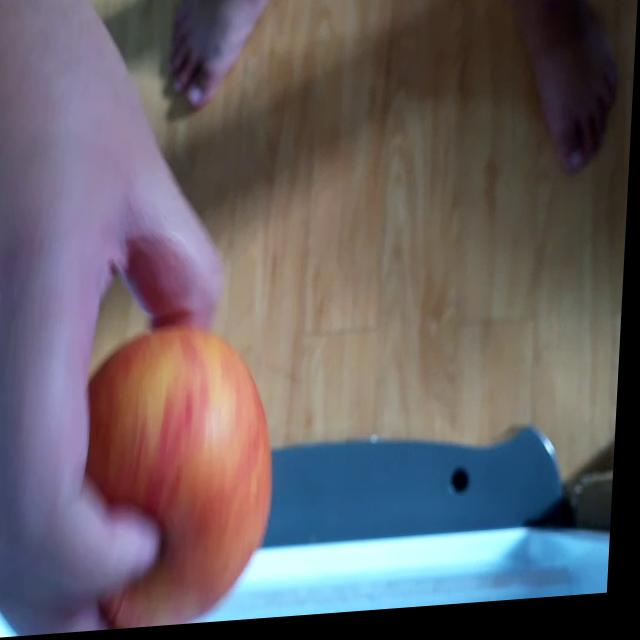apple: (79, 321, 279, 632)
